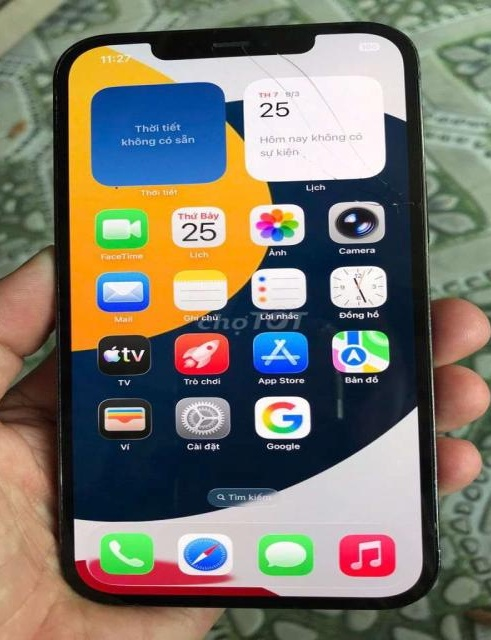physical_damage: (219, 23, 433, 257)
